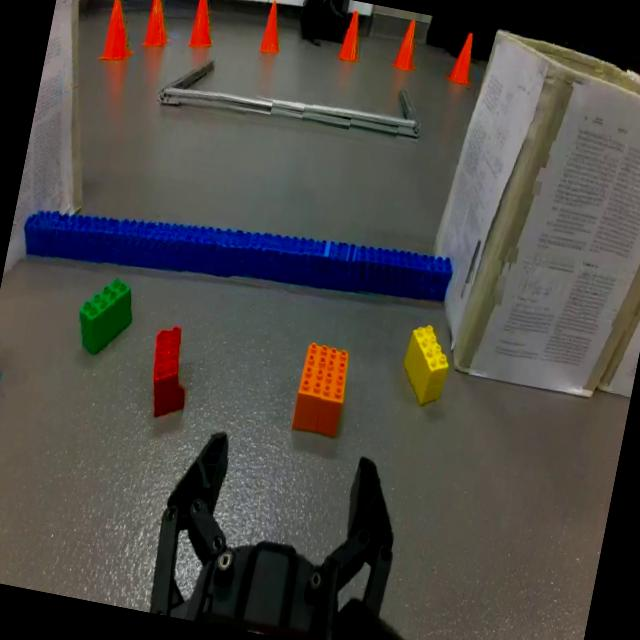block: (401, 321, 448, 412)
cone: (91, 0, 145, 68), (443, 28, 482, 91), (136, 0, 179, 53), (390, 16, 426, 77), (181, 0, 223, 52), (336, 9, 370, 69), (256, 0, 288, 57)
green: (78, 275, 133, 356)
metal barrier: (156, 58, 422, 135)
orange: (289, 340, 351, 442)
red goal: (153, 327, 183, 420)
river: (24, 210, 453, 303)
storage cube: (430, 29, 640, 400)
